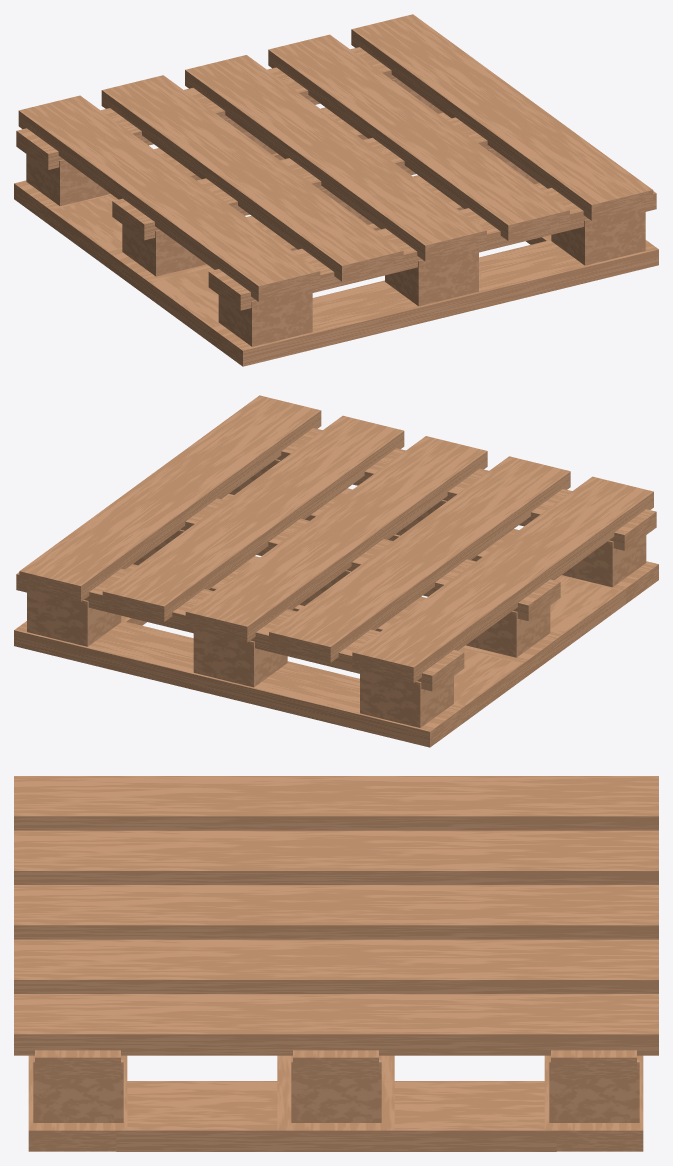
Rendered from palette.glb.
3 views of the same model, one above another, from view 1: azimuth 30°, elevation 25°; view 2: azimuth 150°, elevation 25°; view 3: azimuth 270°, elevation 25° (orthographic). The views are drawn at different scales.
Parts seen in each view (by area): view 1: Cube.004; view 2: Cube.004; view 3: Cube.004.
Part boxes in pixels (x1,y1,x2,y2): Cube.004: (14,14,658,366); Cube.004: (14,395,658,747); Cube.004: (14,776,658,1151).
Size of the model in its own units: 11.01 by 2.07 by 11.
Materials: 1 (1 with a texture image).
